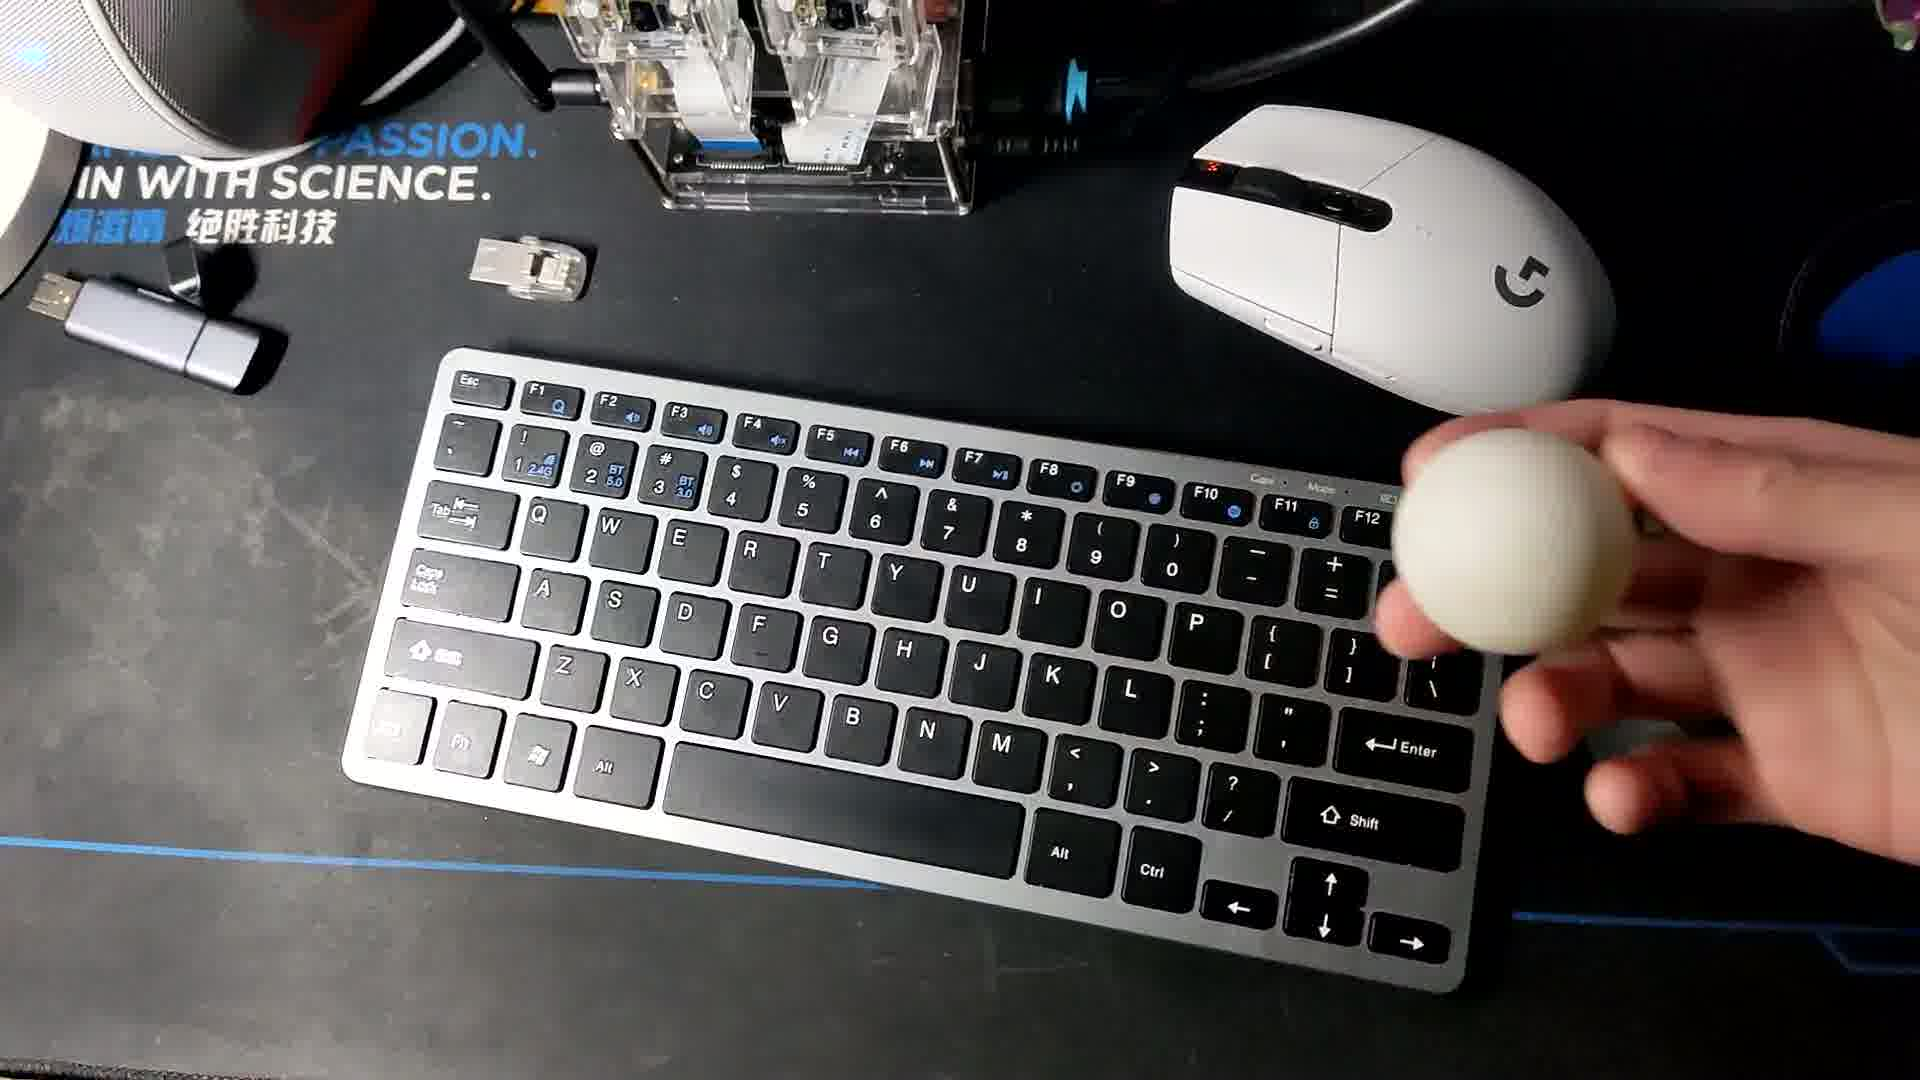Ball: (1396, 429, 1635, 650)
